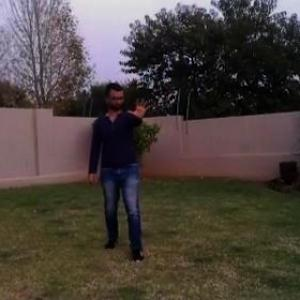follow_hand: (129, 94, 152, 122)
